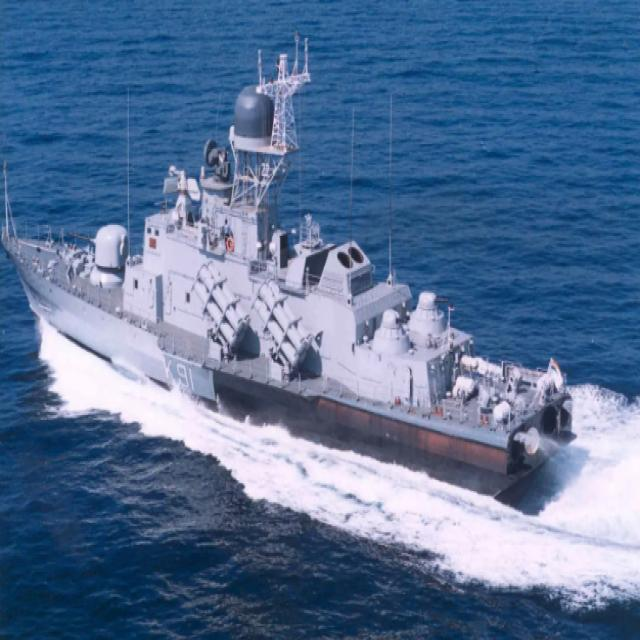navalvessels: (2, 28, 575, 510)
